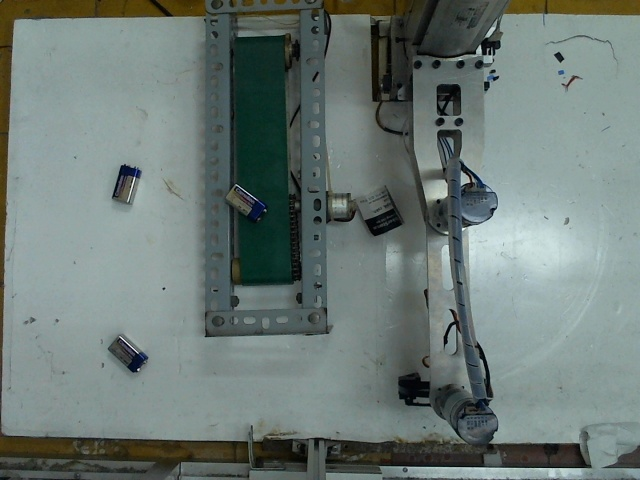battery: (103, 332, 148, 374), (225, 179, 267, 219), (109, 161, 138, 206)
